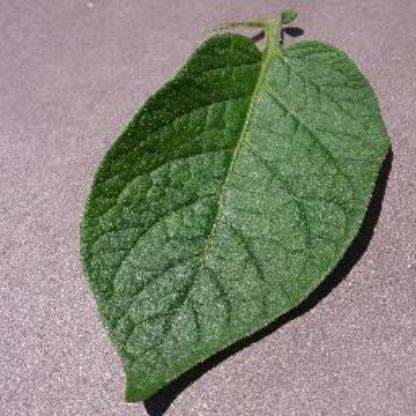Healthy-plant: (51, 19, 397, 374)
